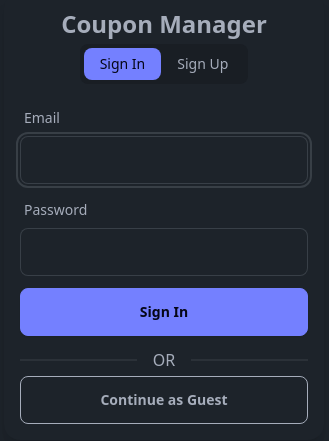
Test: LoginForm › Tab Switching › should switch to sign up tab when clicking Sign Up tab
Step 1. Click the link "Sign Up" → (203, 64), box [177, 54, 228, 73]
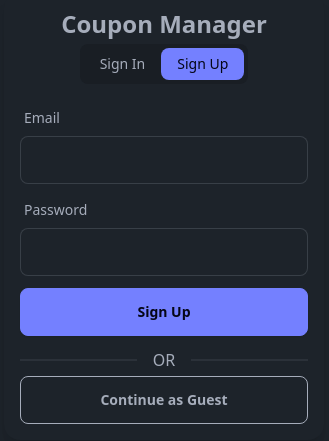
Expected: the button with test id "login-submit-button" reads "Sign Up", [20, 288, 308, 336]
